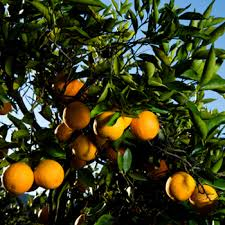orange: (33, 158, 67, 191), (4, 161, 34, 196), (165, 169, 196, 201), (61, 102, 94, 132), (132, 108, 160, 141), (93, 110, 124, 139), (72, 135, 99, 164), (194, 181, 220, 209)
